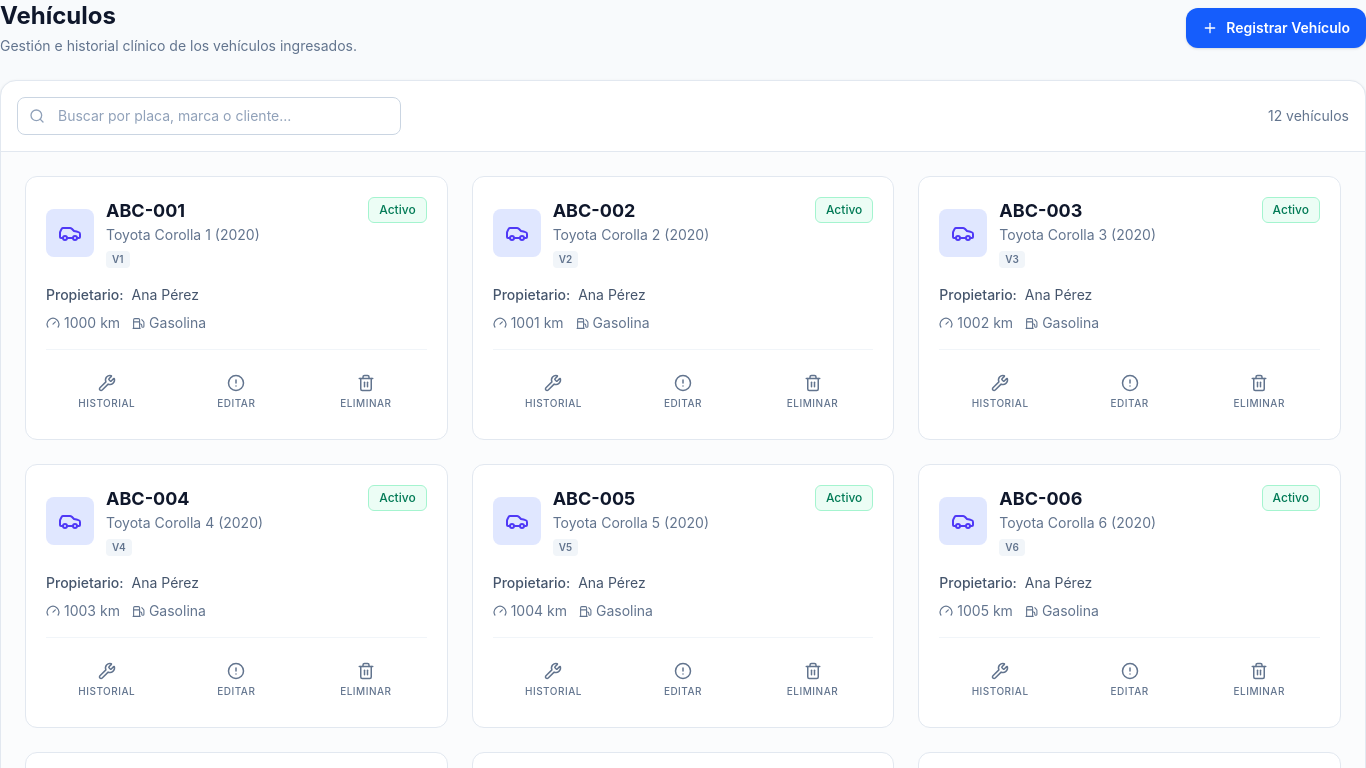
Test: Vehicles (vehículos) › abre el modal de registro de vehículo
Expected: the heading "ABC-001" is shown, [106,200,185,221]
What coordinates should you click on to do the following:
click the button "Registrar Vehículo"
I would click on:
 (1276, 28)
Its box is [1186,8,1365,48].
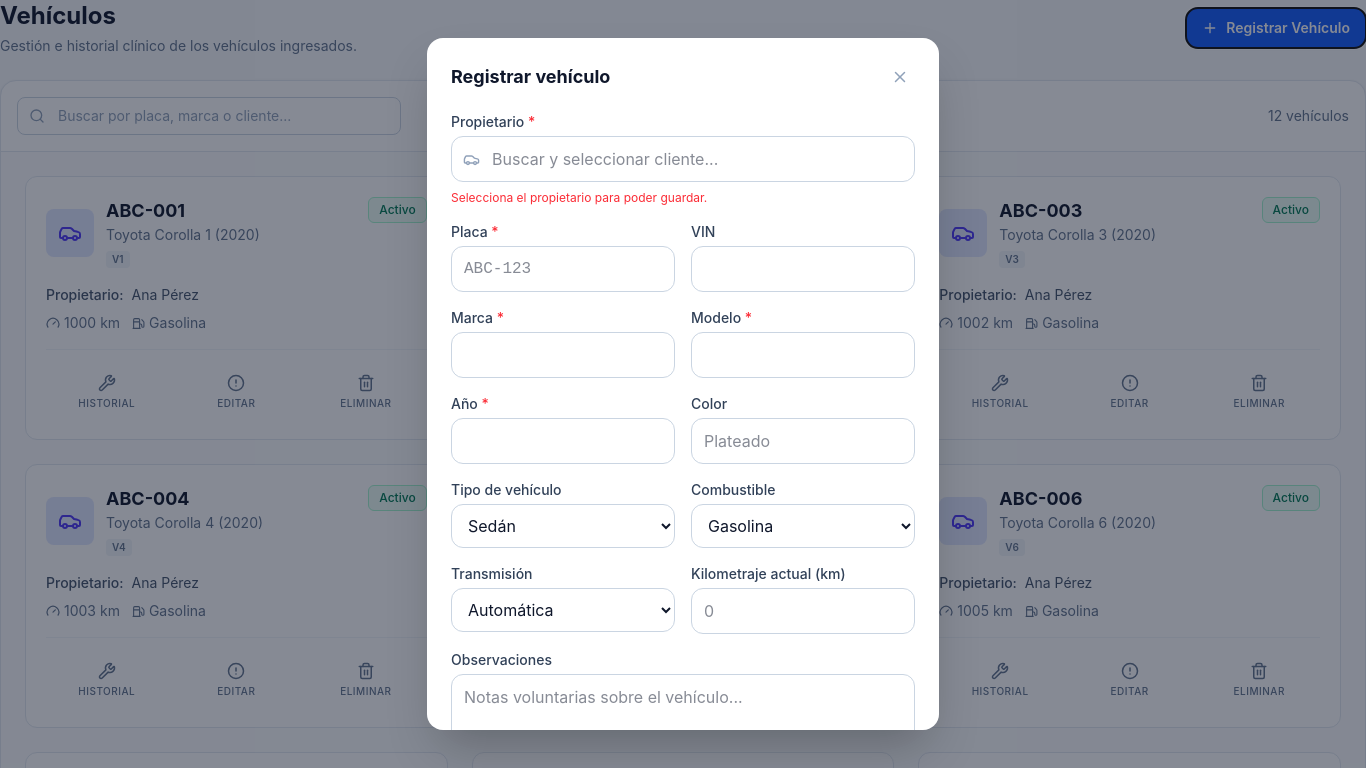
Expected: the heading "Registrar vehículo" is shown, [451,63,610,91]
Expected: the field with placeholder "ABC-123" is shown, [451,246,675,292]
